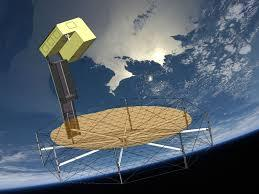antenna: (49, 105, 193, 151)
body: (37, 16, 98, 64)
